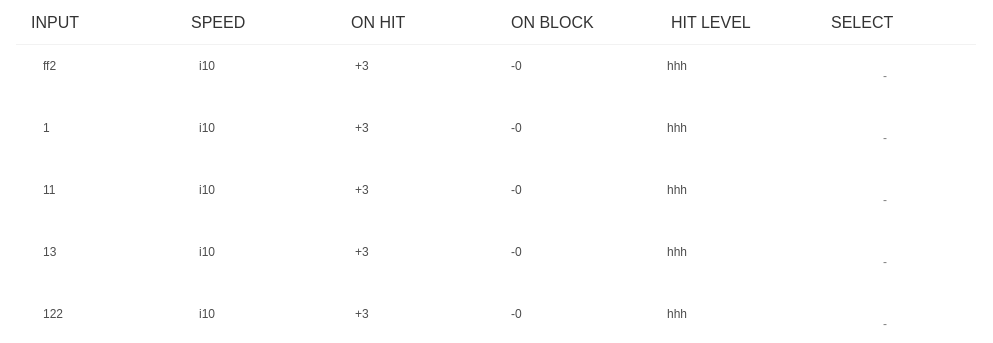
Test case: Updates Sorted Order When Selected › Row element › sorts the moves by selected clicks
The width and height of the screenshot is (993, 343).
Step 1. Click the button with id "move-select-button" → (885, 200), box [823,181,947,219]
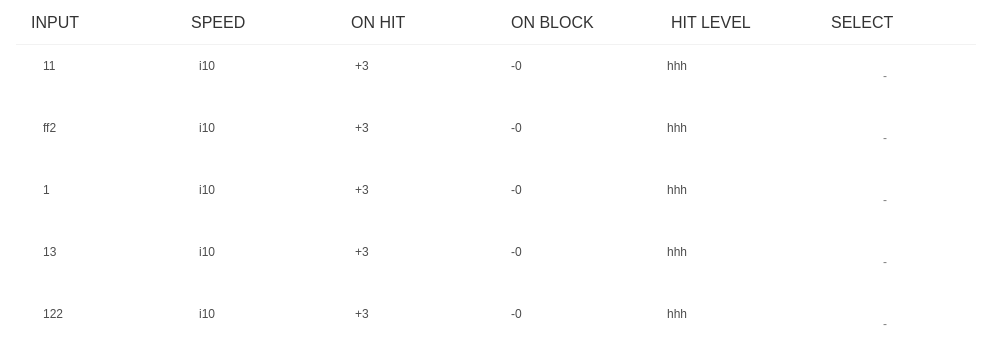
Now the text with id "move-detail-notation" reads "11", box [43,59,56,73]
